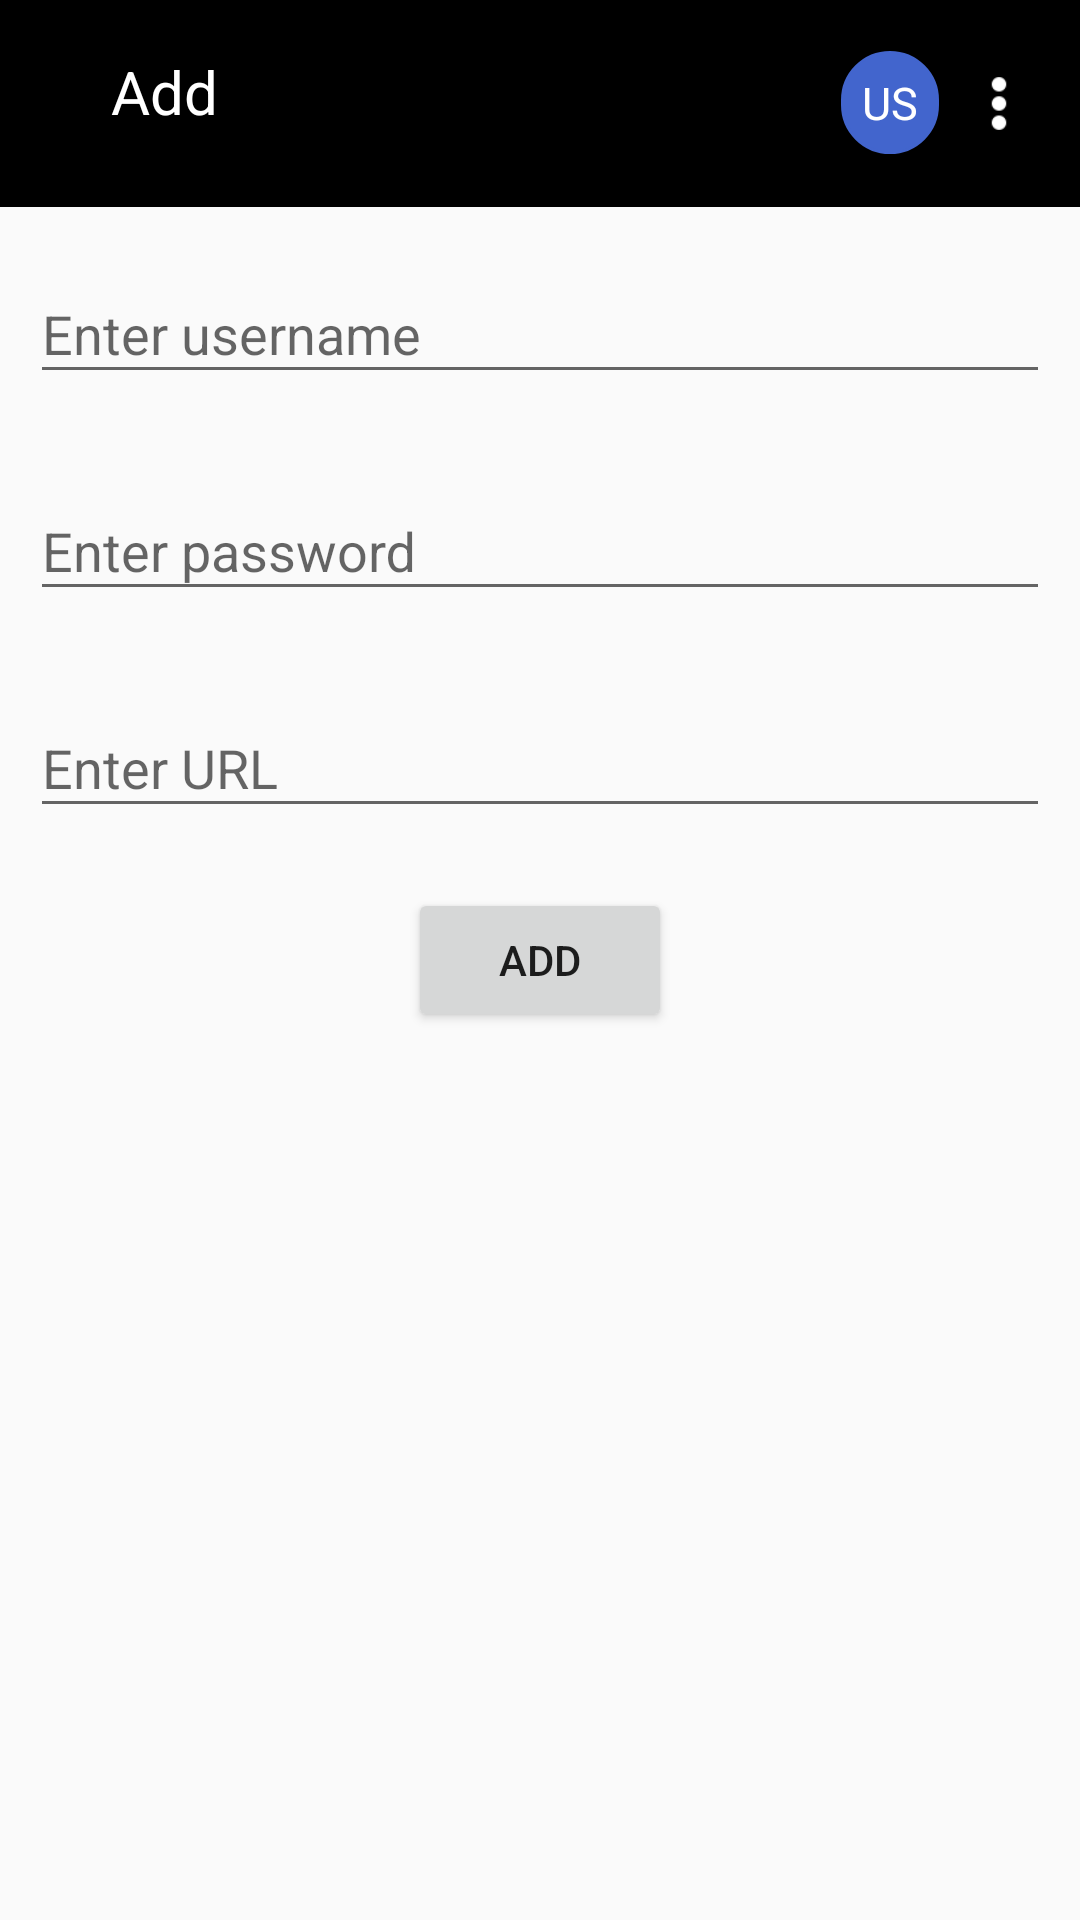

Point at icon controls on the screen. Image size 1080w x 1920h, points as (x=x, y=y).
more: (x=999, y=103)
